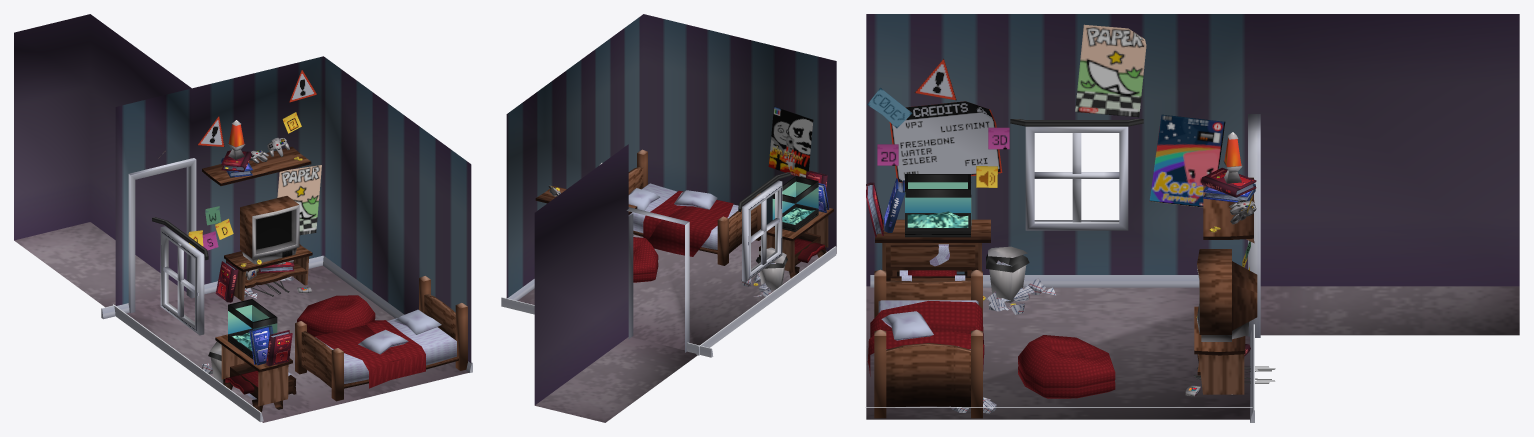
File: TheRoom64.glb
3 views of the same model, side by side, from view 1: azimuth 30°, elevation 25°; view 2: azimuth 150°, elevation 25°; view 3: azimuth 270°, elevation 25° (orthographic). The views are drawn at different scales.
Visible parts, largest first — view 1: Plane.001, Plane.005; view 2: Plane.001, Plane.005; view 3: Plane.001, Plane.005.
Boxes of the visible parts, x1=… form: Plane.001: x1=14, y1=14, x2=471, y2=422; Plane.005: x1=101, y1=69, x2=472, y2=422; Plane.001: x1=506, y1=14, x2=836, y2=422; Plane.005: x1=501, y1=106, x2=836, y2=357; Plane.001: x1=866, y1=14, x2=1519, y2=419; Plane.005: x1=865, y1=24, x2=1275, y2=422.
Size of the model in its own units: 15.95 by 14.4 by 30.45.
Materials: 1 (1 with a texture image).
